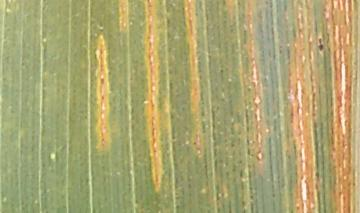tarspot: (314, 32, 330, 57)
